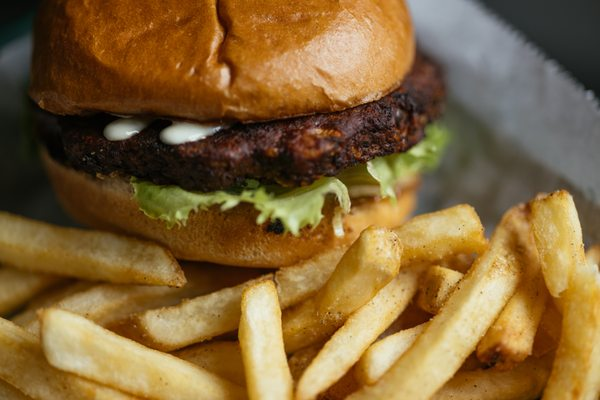soup: (21, 0, 455, 269)
